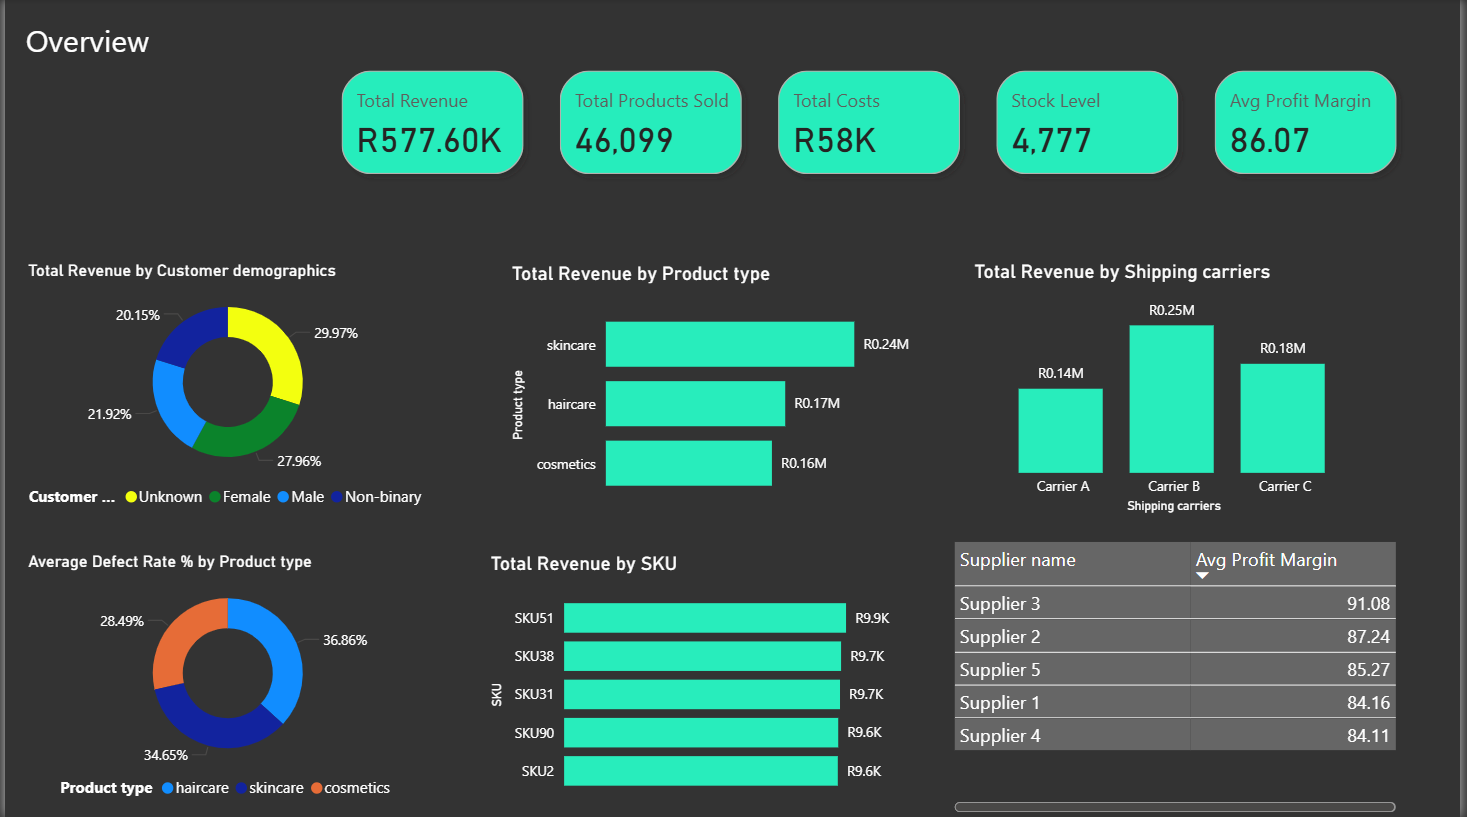

The dashboard page shown, as its layout file describes it:
{"tool":"powerbi","page":{"name":"Overview","canvas":[1280,720],"ordinal":0},"visuals":[{"type":"cardVisual","fields":{"Data":["_Measures.Total Revenue","_Measures.Total Products Sold","_Measures.Total Costs","_Measures.Stock Level","_Measures.Avg Profit Margin"]},"box":[279.1,46.3,963.1,125.8],"z":0},{"type":"donutChart","fields":{"Y":["_Measures.Total Revenue"],"Category":["supply_chain_data.Customer demographics"]},"box":[15.9,229.9,361.5,227],"z":1000},{"type":"donutChart","fields":{"Y":["_Measures.Average Defect Rate %"],"Category":["supply_chain_data.Product type"]},"box":[15.9,485.9,361.5,227],"z":2000},{"type":"clusteredBarChart","fields":{"Y":["_Measures.Total Revenue"],"Category":["supply_chain_data.Product type"]},"box":[441,231.4,360.1,225.6],"z":3000},{"type":"clusteredBarChart","fields":{"Y":["_Measures.Total Revenue"],"Category":["supply_chain_data.SKU"]},"box":[422.2,485.9,361.5,225.6],"z":4000},{"type":"columnChart","fields":{"Y":["_Measures.Total Revenue"],"Category":["supply_chain_data.Shipping carriers"]},"box":[847.4,229.9,361.5,227],"z":5000},{"type":"tableEx","fields":{"Values":["supply_chain_data.Supplier name","_Measures.Avg Profit Margin"]},"box":[828.6,472.8,399.1,247.3],"z":6000},{"type":"textbox","box":[13,13,266.1,66.5],"z":7000}]}

Visuals, with their boxes in screenshot pixels (x1, y1, x2, y2), scaled from the page's 1280x720 canvas onto the 1467x817 screenshot:
cardVisual - _Measures.Total Revenue x _Measures.Total Products Sold: crop(320, 53, 1424, 195)
donutChart - _Measures.Total Revenue x supply_chain_data.Customer demographics: crop(18, 261, 433, 518)
donutChart - _Measures.Average Defect Rate % x supply_chain_data.Product type: crop(18, 551, 433, 809)
clusteredBarChart - _Measures.Total Revenue x supply_chain_data.Product type: crop(505, 263, 918, 519)
clusteredBarChart - _Measures.Total Revenue x supply_chain_data.SKU: crop(484, 551, 898, 807)
columnChart - _Measures.Total Revenue x supply_chain_data.Shipping carriers: crop(971, 261, 1386, 518)
tableEx - supply_chain_data.Supplier name x _Measures.Avg Profit Margin: crop(950, 536, 1407, 816)
textbox: crop(15, 15, 320, 90)
